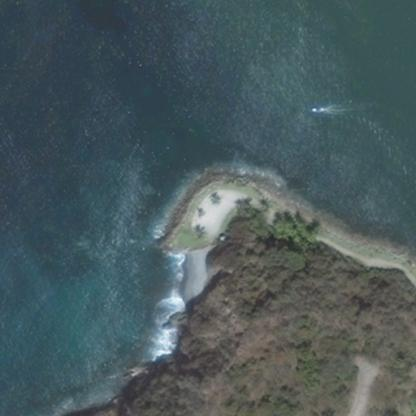ship: (308, 103, 330, 115)
